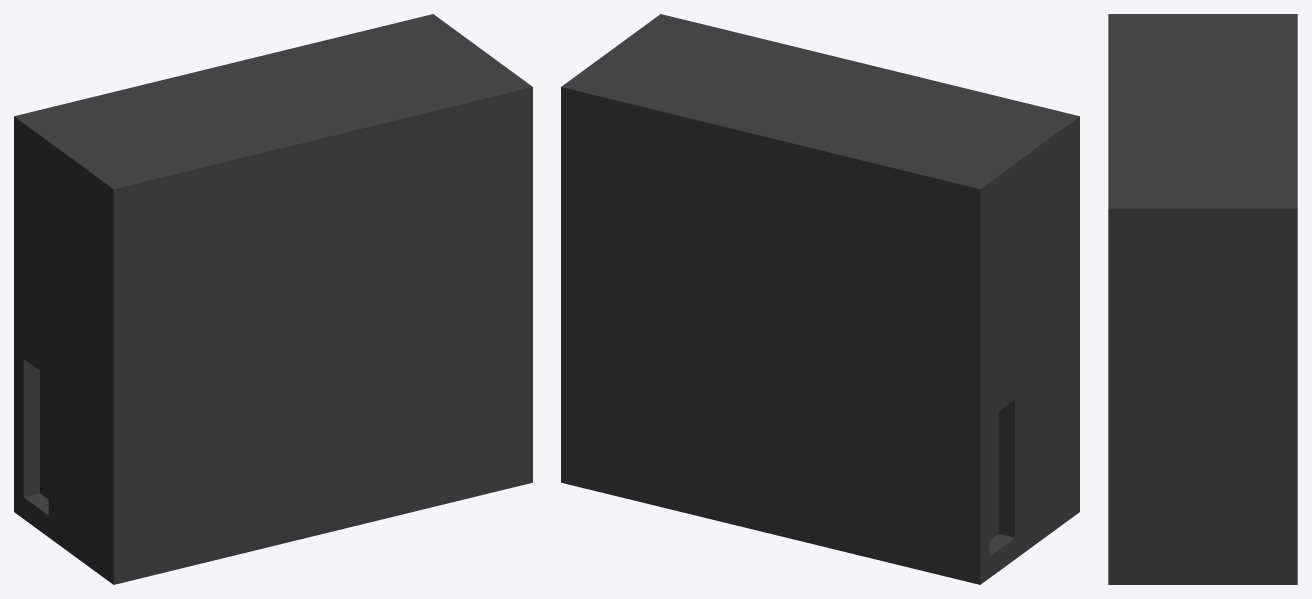
Rendered from CompterCase.fbx.
3 renders of one model, left to right at view 1: azimuth 30°, elevation 25°; view 2: azimuth 150°, elevation 25°; view 3: azimuth 270°, elevation 25°, orthographic. The views are drawn at different scales.
Visible parts, largest first — view 1: CompterCase; view 2: CompterCase; view 3: CompterCase.
Boxes of the visible parts, x1,y1,x2,y2 form: CompterCase: [14, 14, 532, 584]; CompterCase: [561, 14, 1079, 584]; CompterCase: [1108, 14, 1297, 584].
Size of the model in its own units: 51 by 46 by 21.
Materials: 1 (1 with a texture image).
